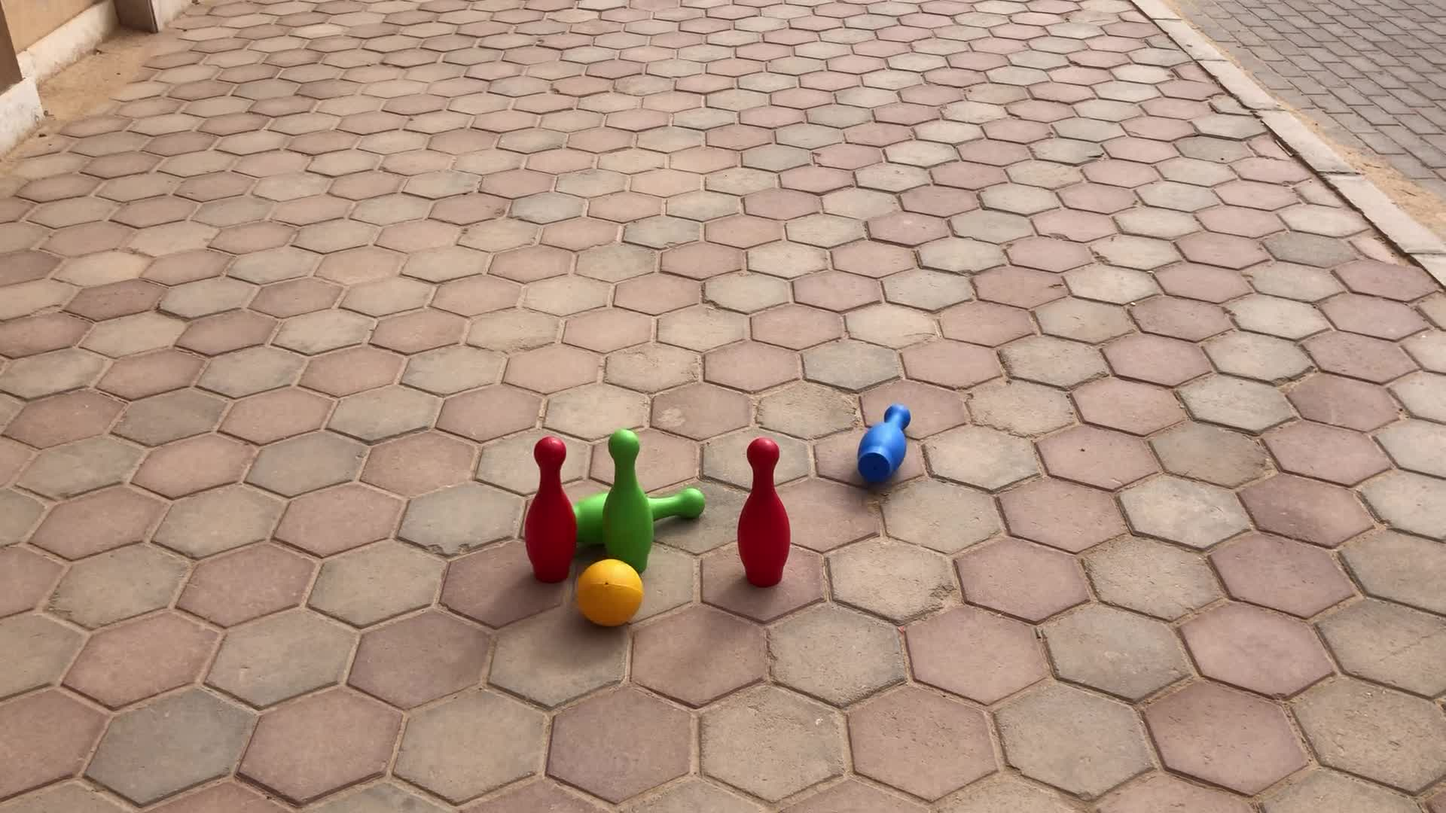bowling-pin: (738, 437, 790, 586), (524, 437, 576, 582), (604, 429, 654, 573), (857, 403, 911, 483), (648, 488, 706, 525)
